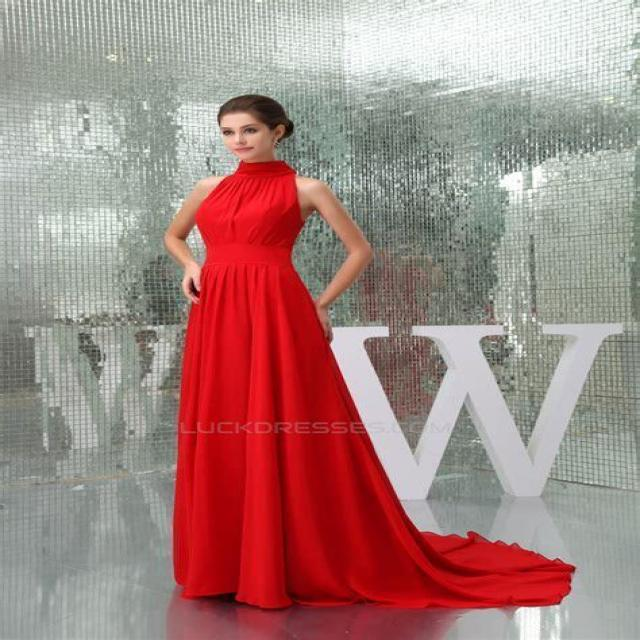dress: (173, 161, 576, 617)
